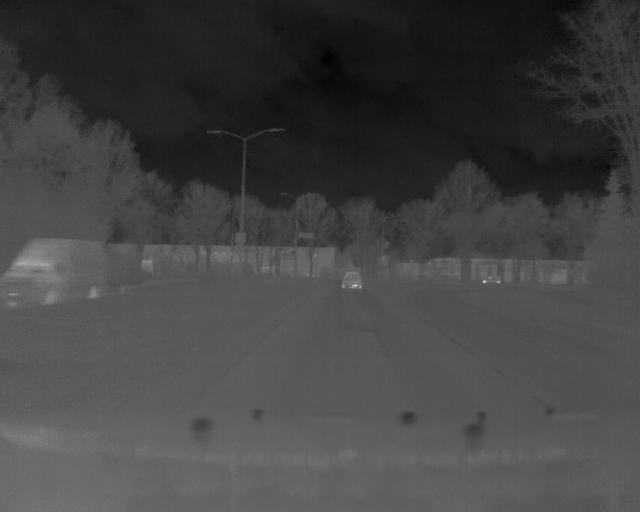car: (1, 237, 110, 301), (338, 268, 363, 291)
